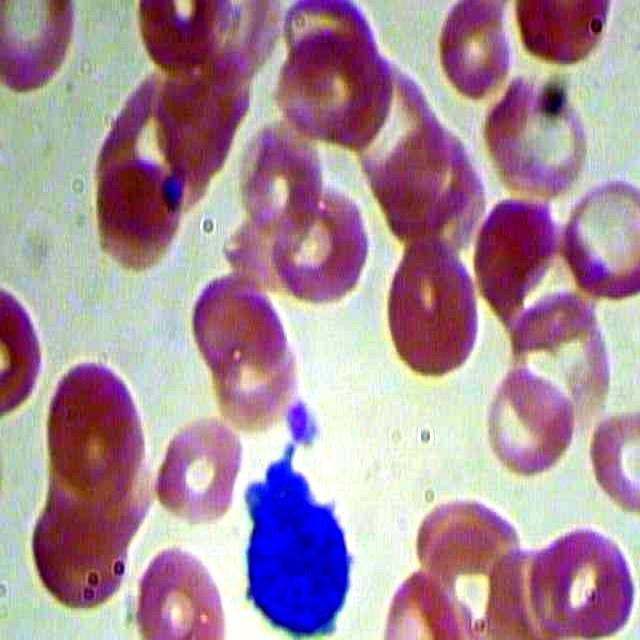Platelets: (282, 395, 324, 452)
RBC: (271, 24, 398, 152), (377, 235, 484, 380), (481, 74, 592, 205), (527, 522, 638, 640), (274, 182, 374, 306), (90, 157, 184, 275), (486, 365, 575, 483), (561, 176, 640, 308), (153, 412, 243, 525), (131, 534, 224, 640), (434, 1, 516, 99), (515, 1, 615, 67), (589, 406, 640, 518)
WBC: (234, 442, 369, 640)
